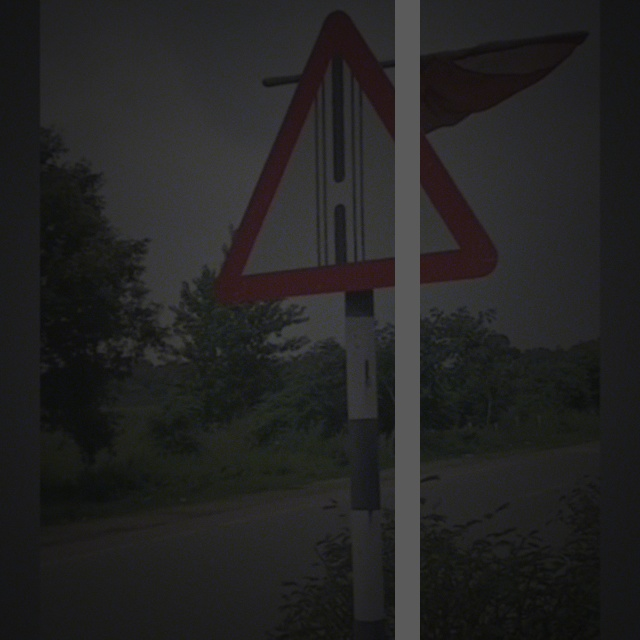Gap_in_Median: (219, 21, 496, 293)
